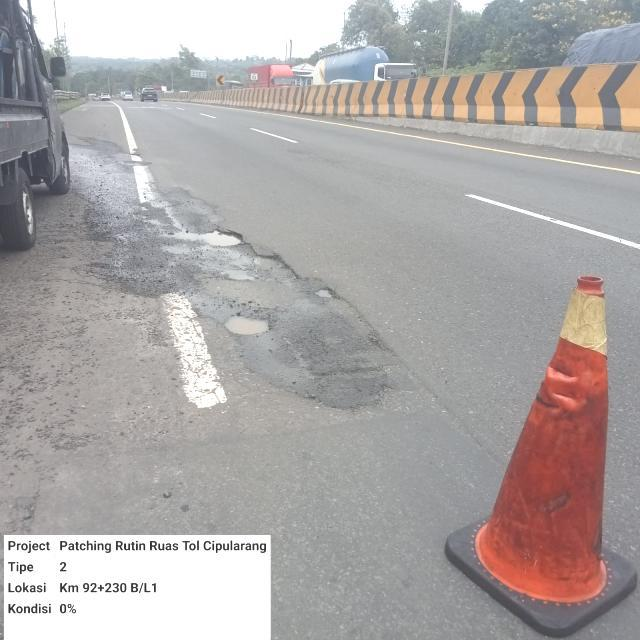Buraco: (157, 227, 302, 285), (220, 312, 274, 338), (311, 285, 343, 301)
